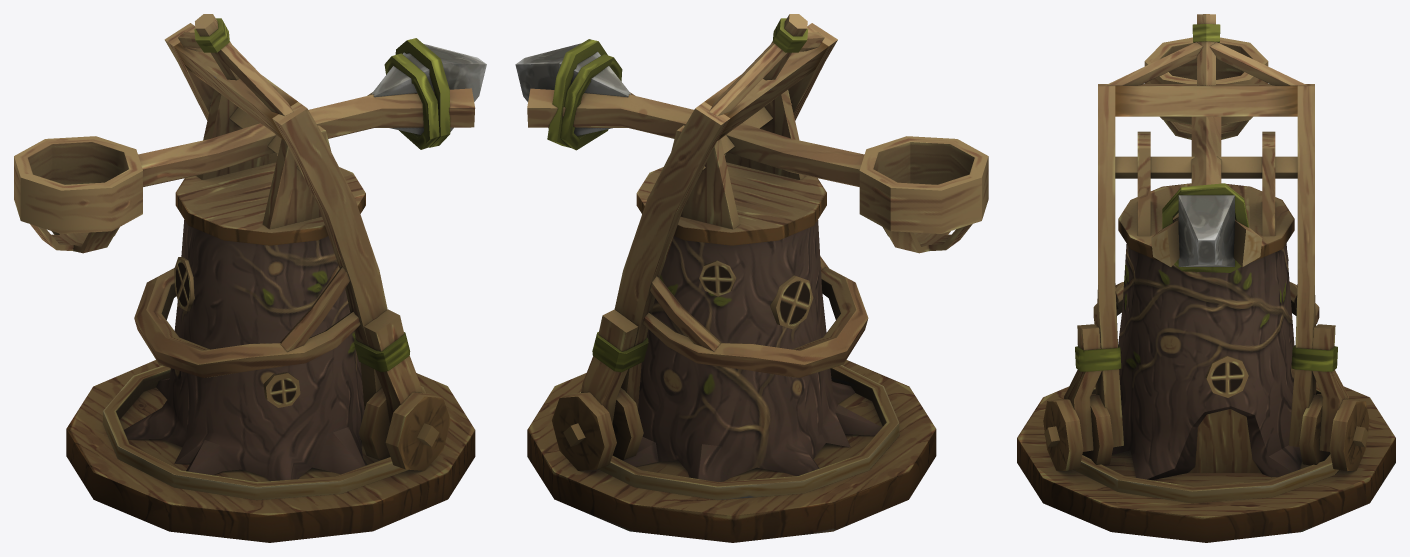
File: woden_tower_mid.FBX
3 views of the same model, side by side, from view 1: azimuth 30°, elevation 25°; view 2: azimuth 150°, elevation 25°; view 3: azimuth 270°, elevation 25° (orthographic). The views are drawn at different scales.
Parts seen in each view (by area): view 1: stump, structure, arm; view 2: stump, structure, arm; view 3: stump, structure, arm.
Boxes of the visible parts, x1=… form: stump: x1=66, y1=220, x2=475, y2=542; structure: x1=134, y1=14, x2=450, y2=470; arm: x1=14, y1=38, x2=486, y2=253; stump: x1=527, y1=220, x2=936, y2=542; structure: x1=552, y1=14, x2=868, y2=470; arm: x1=515, y1=39, x2=988, y2=253; stump: x1=1017, y1=243, x2=1395, y2=542; structure: x1=1043, y1=14, x2=1369, y2=470; arm: x1=1144, y1=37, x2=1268, y2=272.
Bounding box in the file's own units: 573 × 541 × 439.
1 material, 1 textured.
